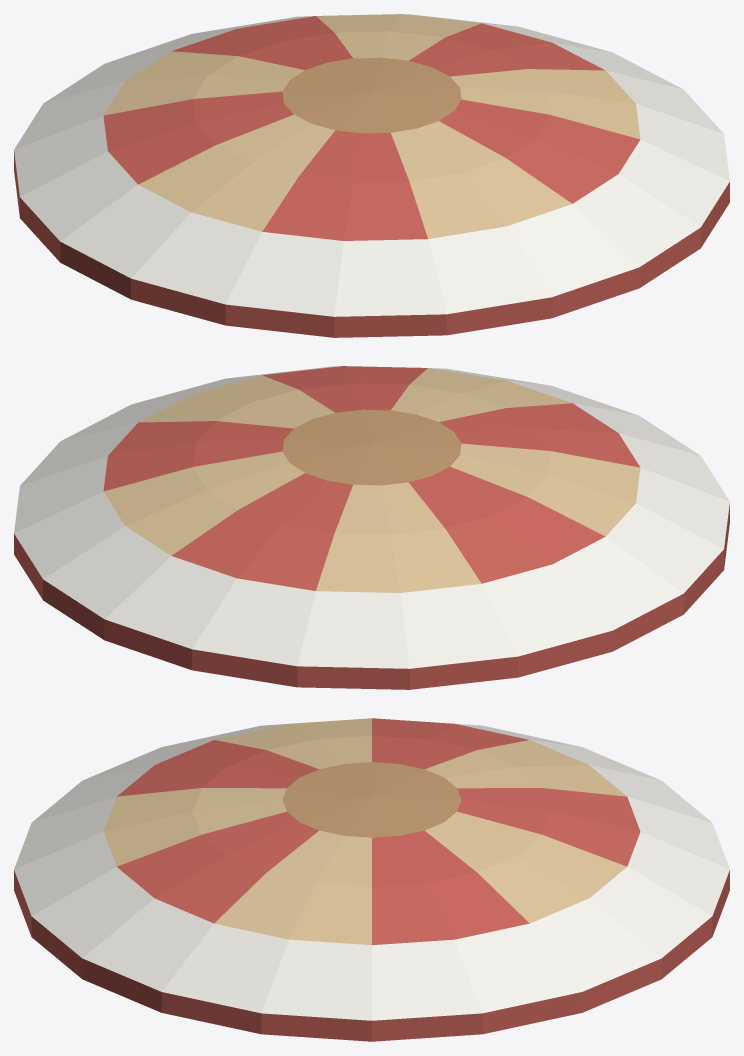
The model's file is deco_sand_dollar.obj.
3 renders of one model, top to bottom at view 1: azimuth 30°, elevation 25°; view 2: azimuth 150°, elevation 25°; view 3: azimuth 270°, elevation 25°, orthographic.
Visible parts, largest first — view 1: deco_sand_dollar; view 2: deco_sand_dollar; view 3: deco_sand_dollar.
Part boxes in pixels (bbox=[...]): deco_sand_dollar: bbox=[14, 14, 729, 337]; deco_sand_dollar: bbox=[14, 366, 729, 689]; deco_sand_dollar: bbox=[14, 718, 729, 1041].
Size of the model in its own units: 0.062 by 0.009 by 0.062.
Materials: 1 (1 with a texture image).
